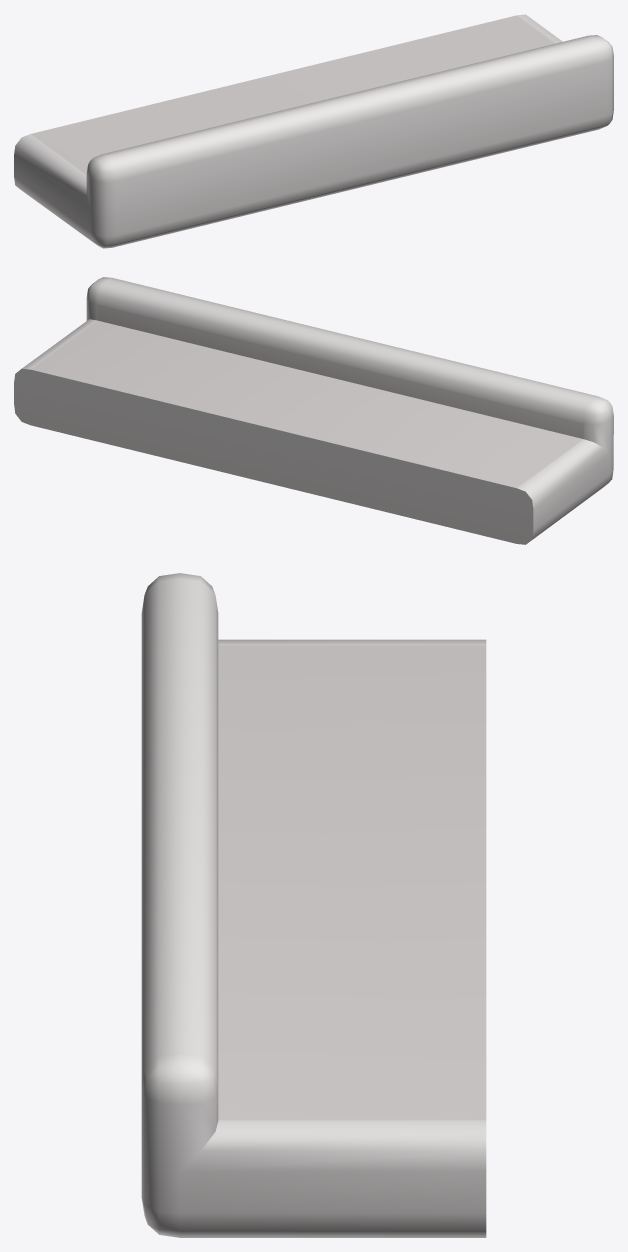
File: Shelf_06.glb
3 views of the same model, one above another, from view 1: azimuth 30°, elevation 25°; view 2: azimuth 150°, elevation 25°; view 3: azimuth 270°, elevation 25° (orthographic). The views are drawn at different scales.
Parts seen in each view (by area): view 1: Shelf_06; view 2: Shelf_06; view 3: Shelf_06.
Part boxes in pixels (x1,y1,x2,y2): Shelf_06: (14,14,613,248); Shelf_06: (14,277,613,544); Shelf_06: (141,573,486,1237).
Bounding box in the file's own units: 0.78 × 0.1277 × 0.2242.
Materials: 1 (1 with a texture image).
